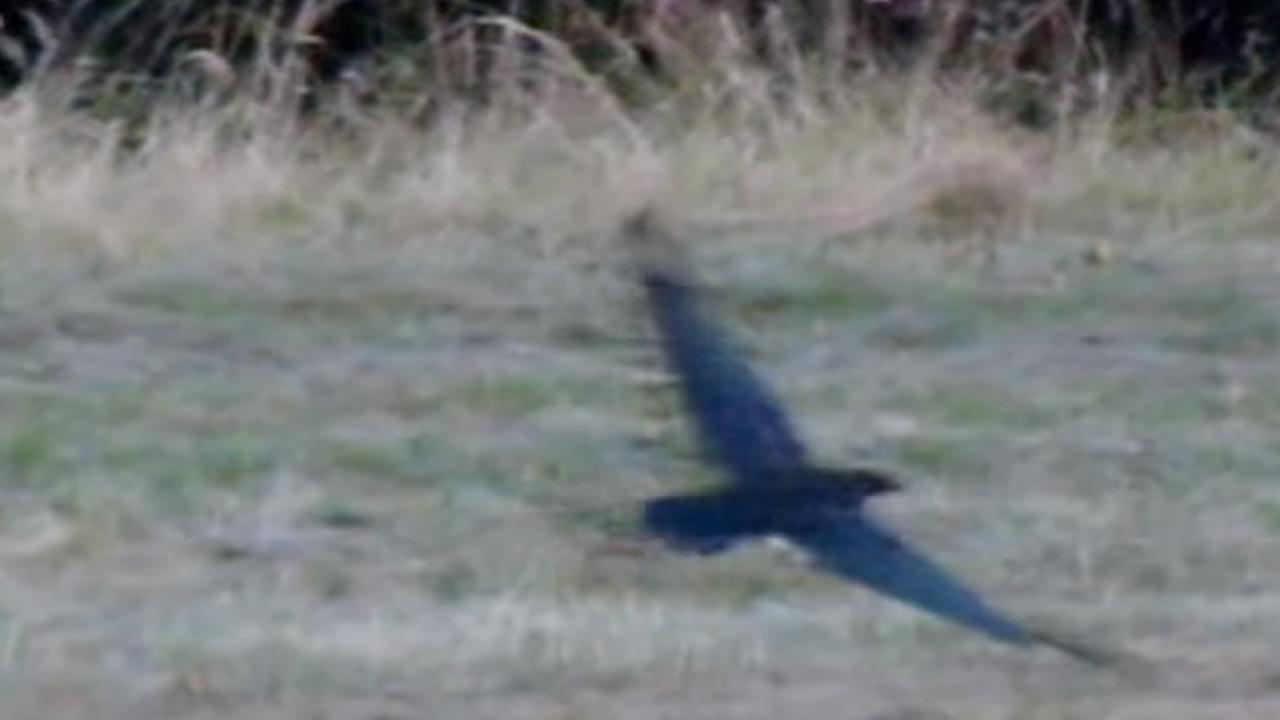Bird: (611, 206, 1110, 676)
